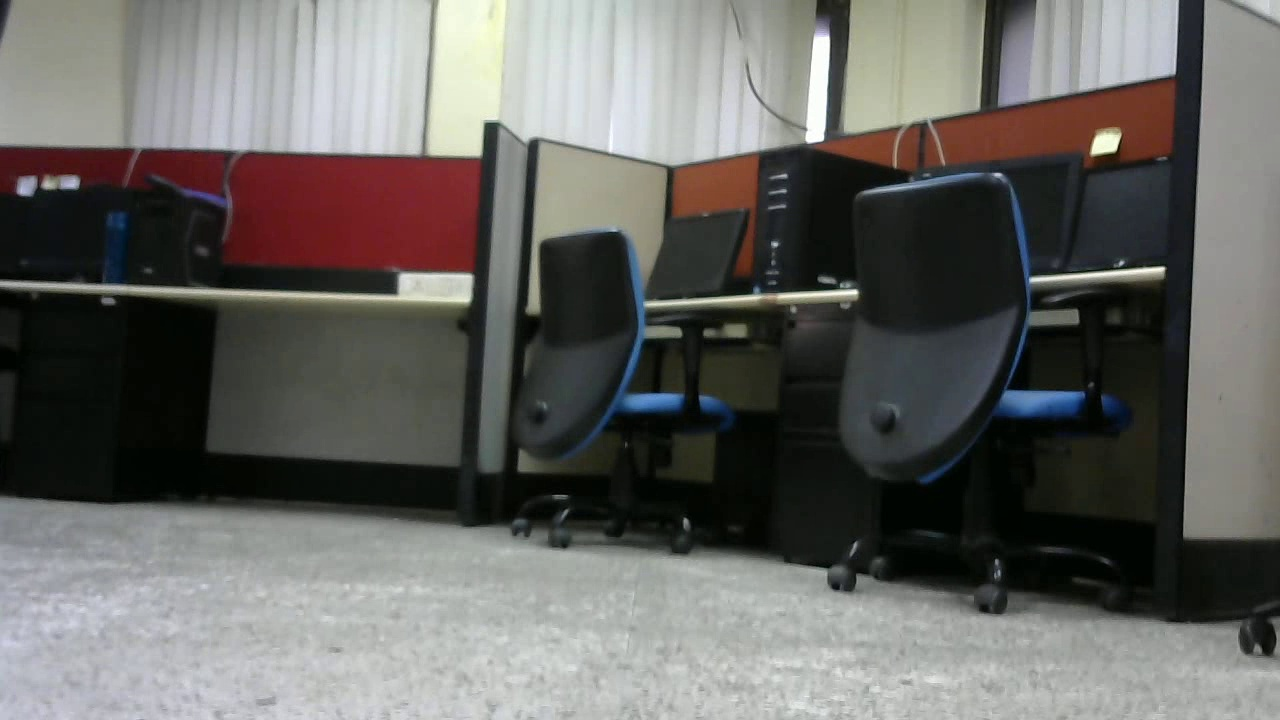chair: (832, 168, 1132, 605), (508, 226, 739, 560)
